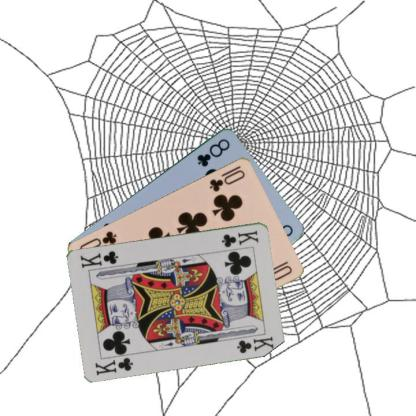10c: (206, 166, 246, 193)
8c: (194, 135, 231, 168)
Kc: (92, 354, 134, 376), (219, 228, 260, 248)
